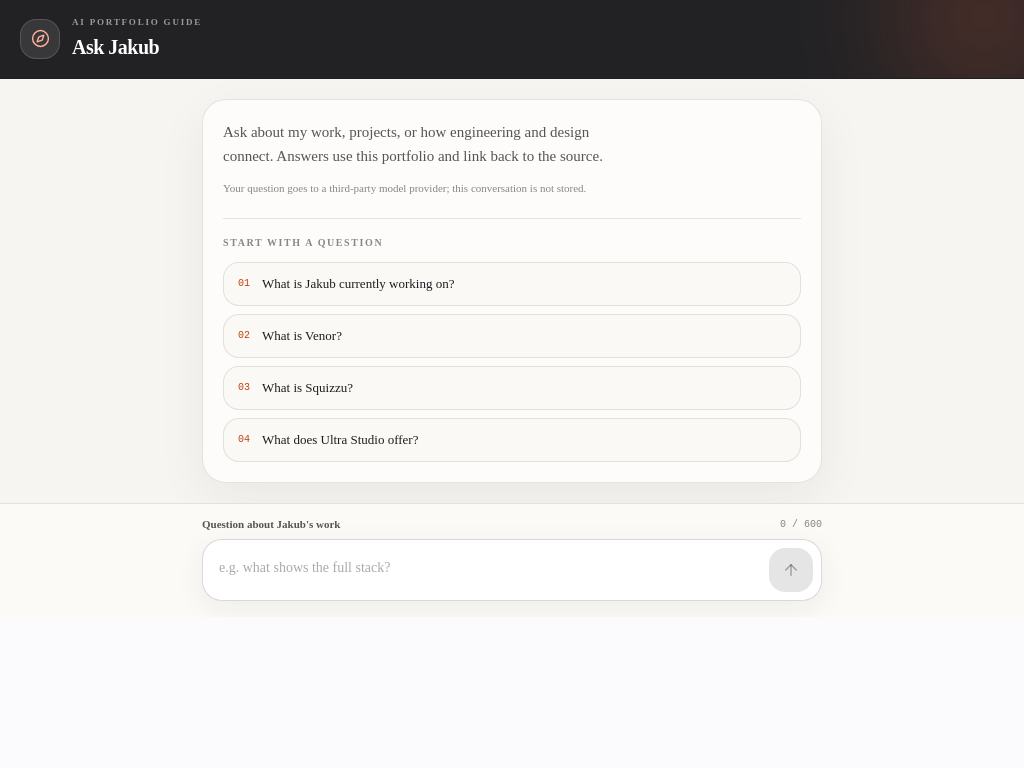
Ask Jakub Desktop App › submits with Enter, announces retrieval once, and lets the visitor cancel
This screenshot has width=1024, height=768.
In the text box labelled "Question about Jakub's work": point(486, 570) x1=211 y1=548 x2=761 y2=592, type "Which work best shows product thinking?"
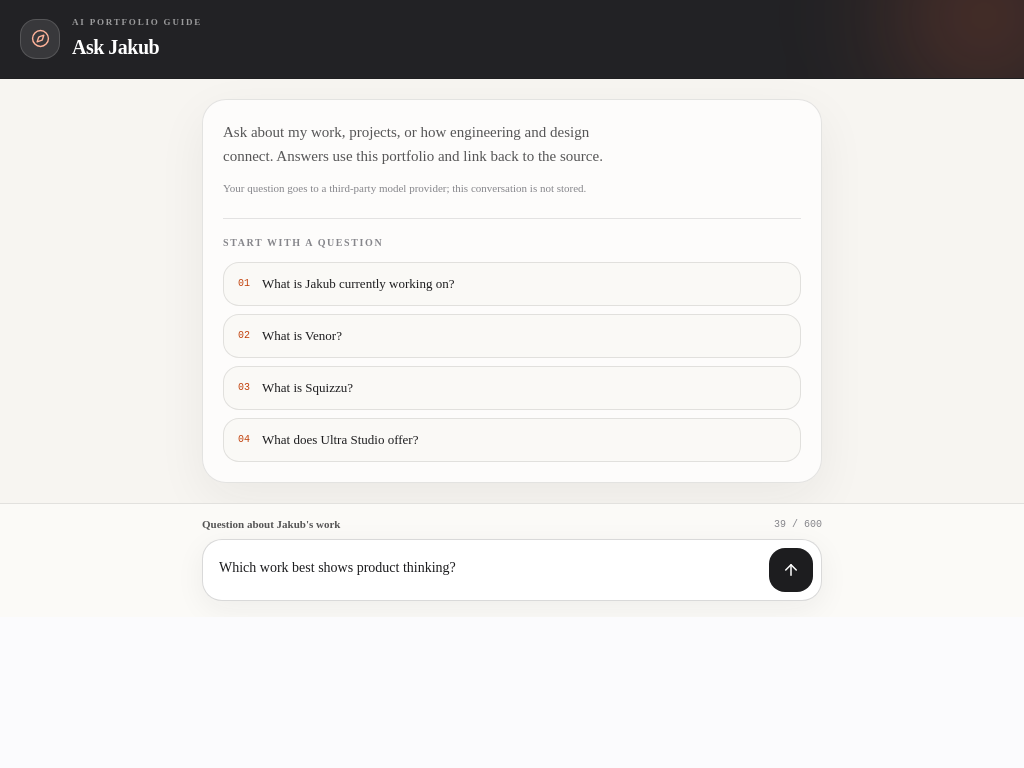
Press Enter in the text box labelled "Question about Jakub's work", box x1=211 y1=548 x2=761 y2=592
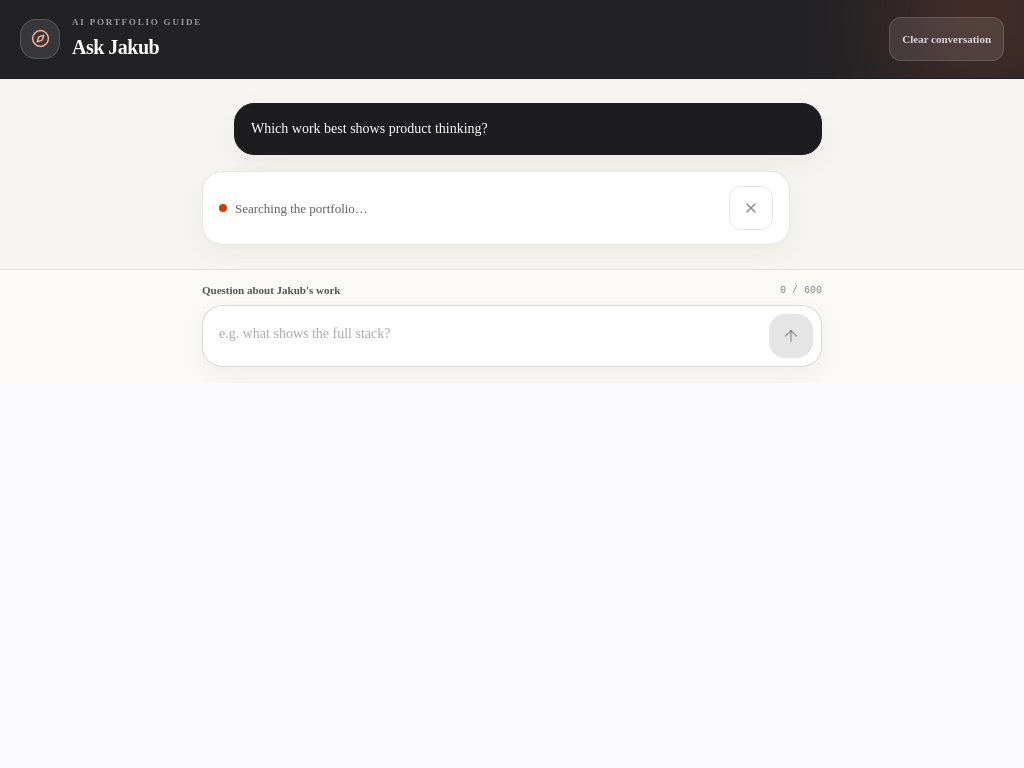
expect the message shows "Searching the portfolio": met, box x1=235 y1=200 x2=368 y2=216
expect the list named "Conversation" shows "Which work best shows product thinking?": met, box x1=251 y1=120 x2=488 y2=136
expect the text box labelled "Question about Jakub's work" is empty: met, box x1=211 y1=314 x2=761 y2=358
Click the button named "Cancel answer": point(751, 208) x1=729 y1=186 x2=773 y2=230
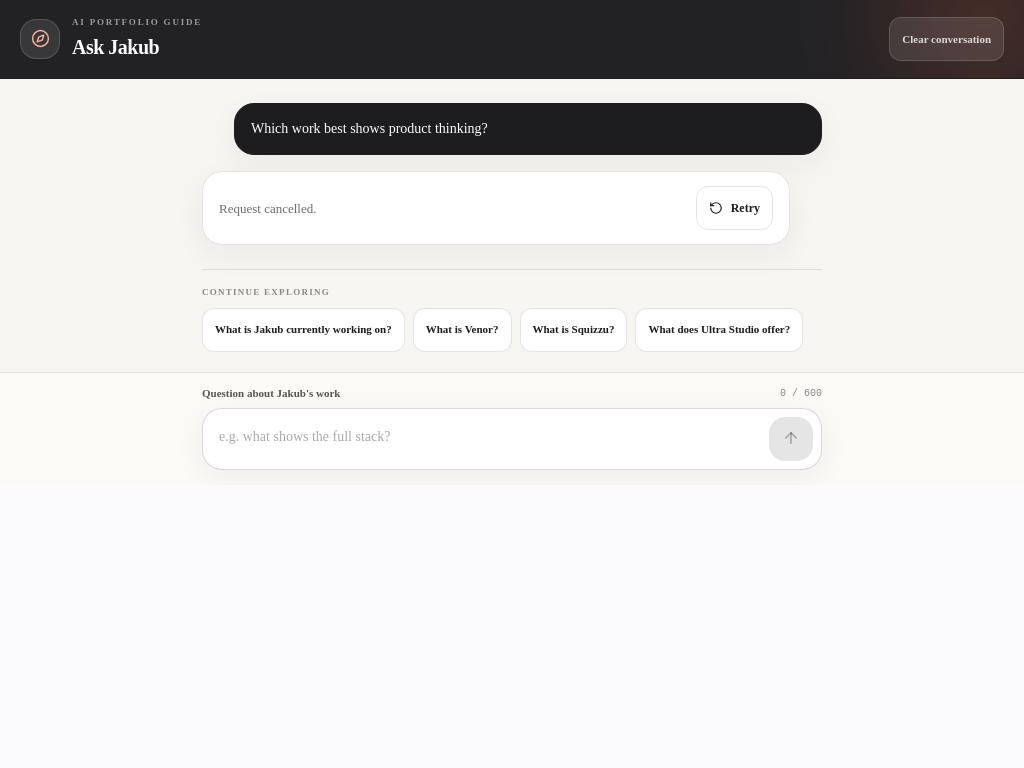
expect the button "Retry" is enabled: met, box x1=696 y1=186 x2=773 y2=230
expect the text "Request cancelled." is shown: met, box x1=219 y1=198 x2=316 y2=218
